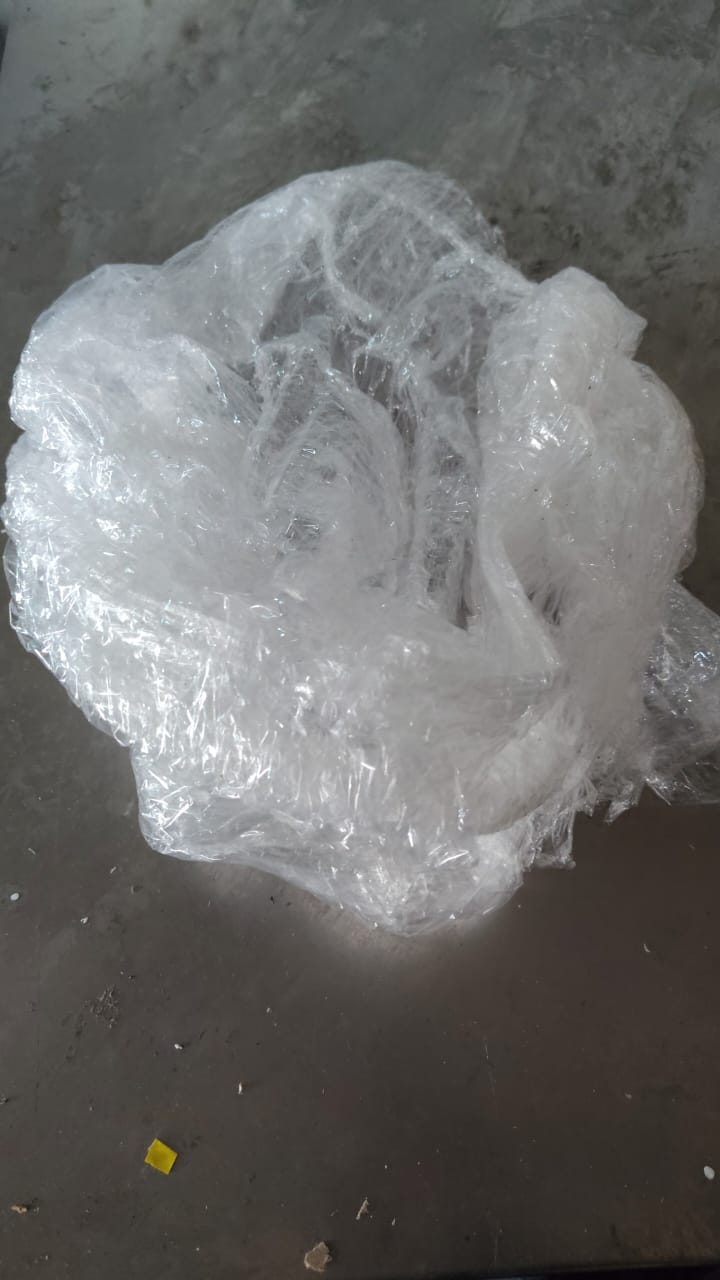Plastico: (0, 157, 720, 941)
